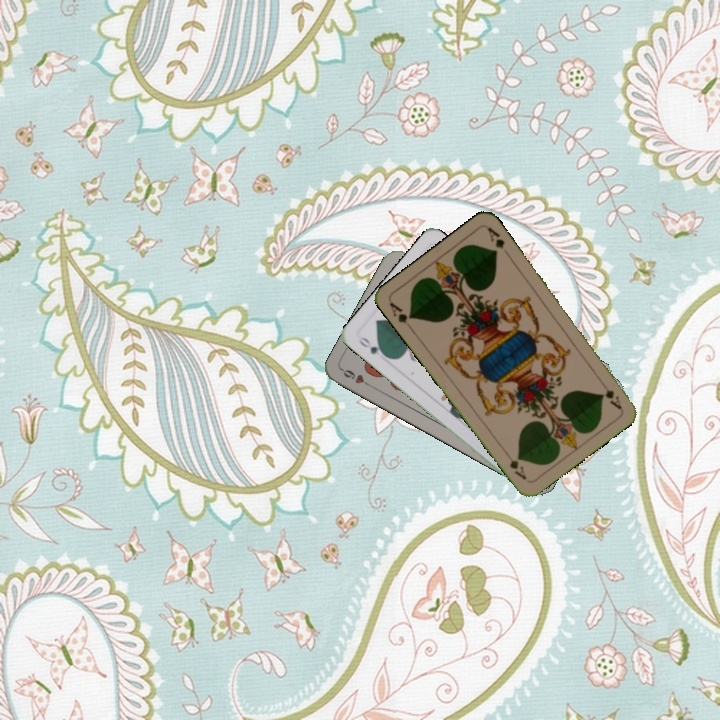GA: (385, 298, 415, 333), (601, 385, 624, 412)
GO: (355, 333, 391, 360)
H9: (338, 365, 375, 390)
